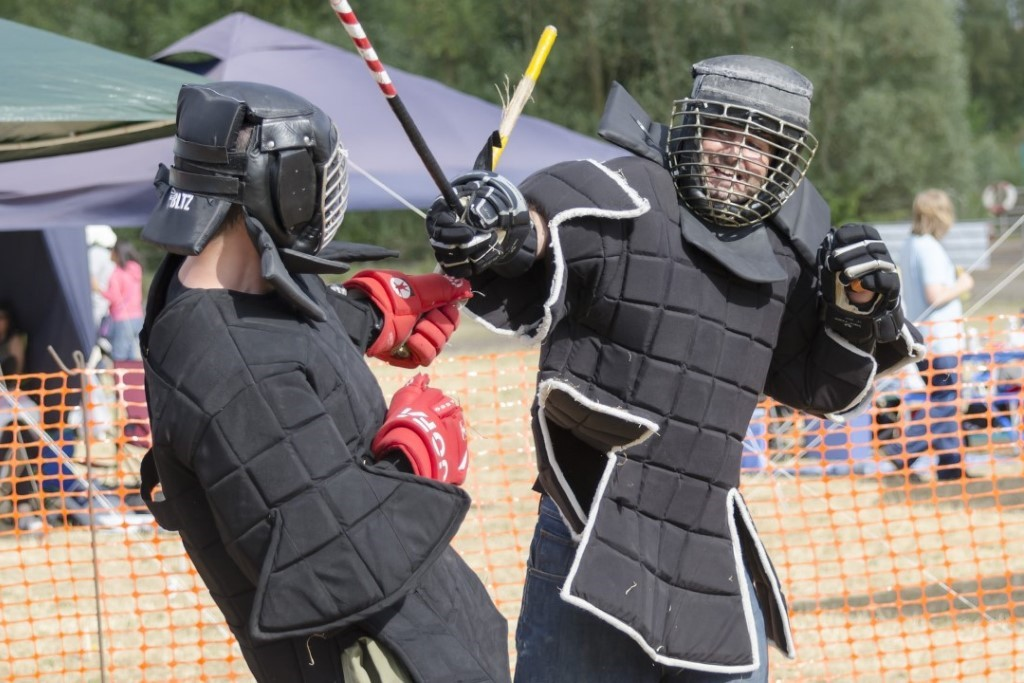baston_e: (331, 0, 463, 211), (477, 38, 556, 169)
baston_v: (541, 17, 562, 39)
